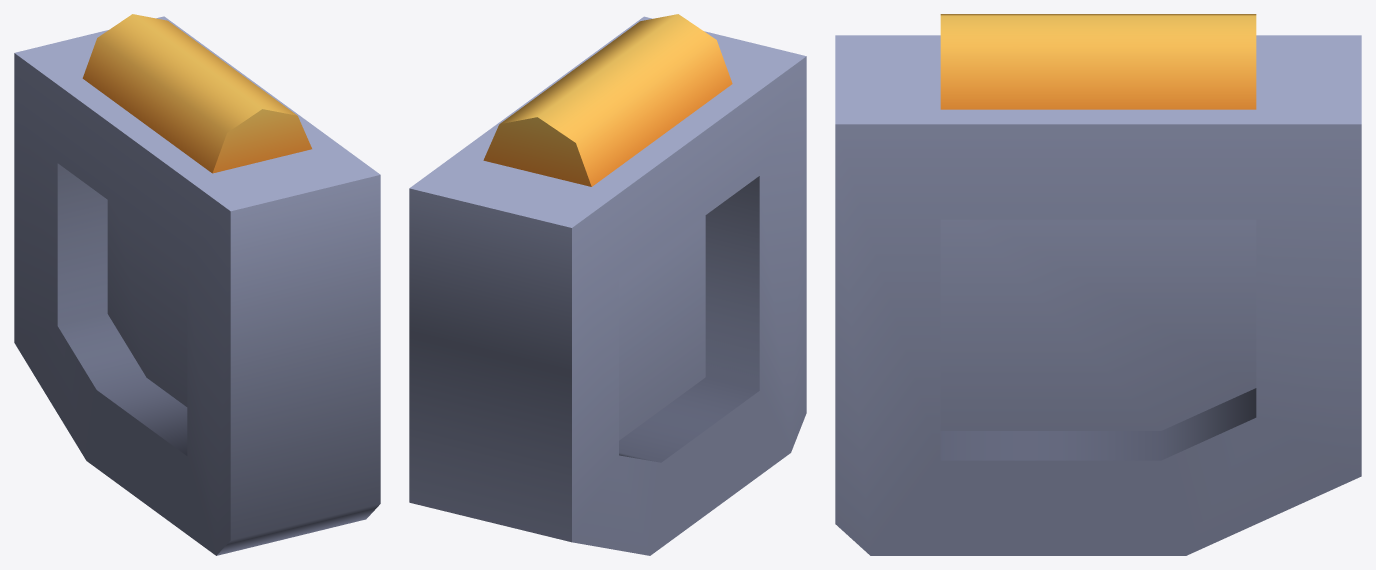
Rendered from clip.glb.
3 views of the same model, side by side, from view 1: azimuth 30°, elevation 25°; view 2: azimuth 150°, elevation 25°; view 3: azimuth 270°, elevation 25° (orthographic). The views are drawn at different scales.
Visible parts, largest first — view 1: clip-small; view 2: clip-small; view 3: clip-small.
Part boxes in pixels (x1,y1,x2,y2): clip-small: (14,14,380,555); clip-small: (409,14,806,555); clip-small: (835,14,1361,555).
Bounding box in the file's own units: 0.06 × 0.1558 × 0.15.
Materials: 1 (1 with a texture image).
